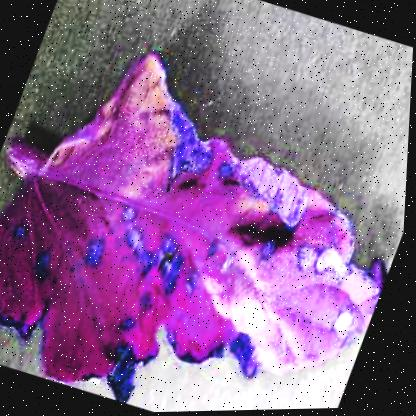BACTERIAL SPOT: (0, 8, 414, 415)
